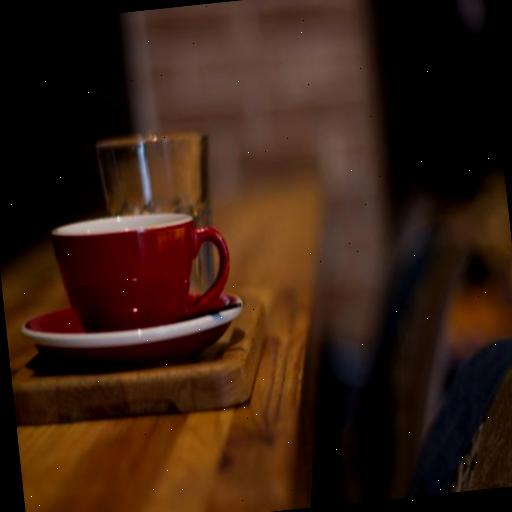cup: (50, 206, 236, 336)
